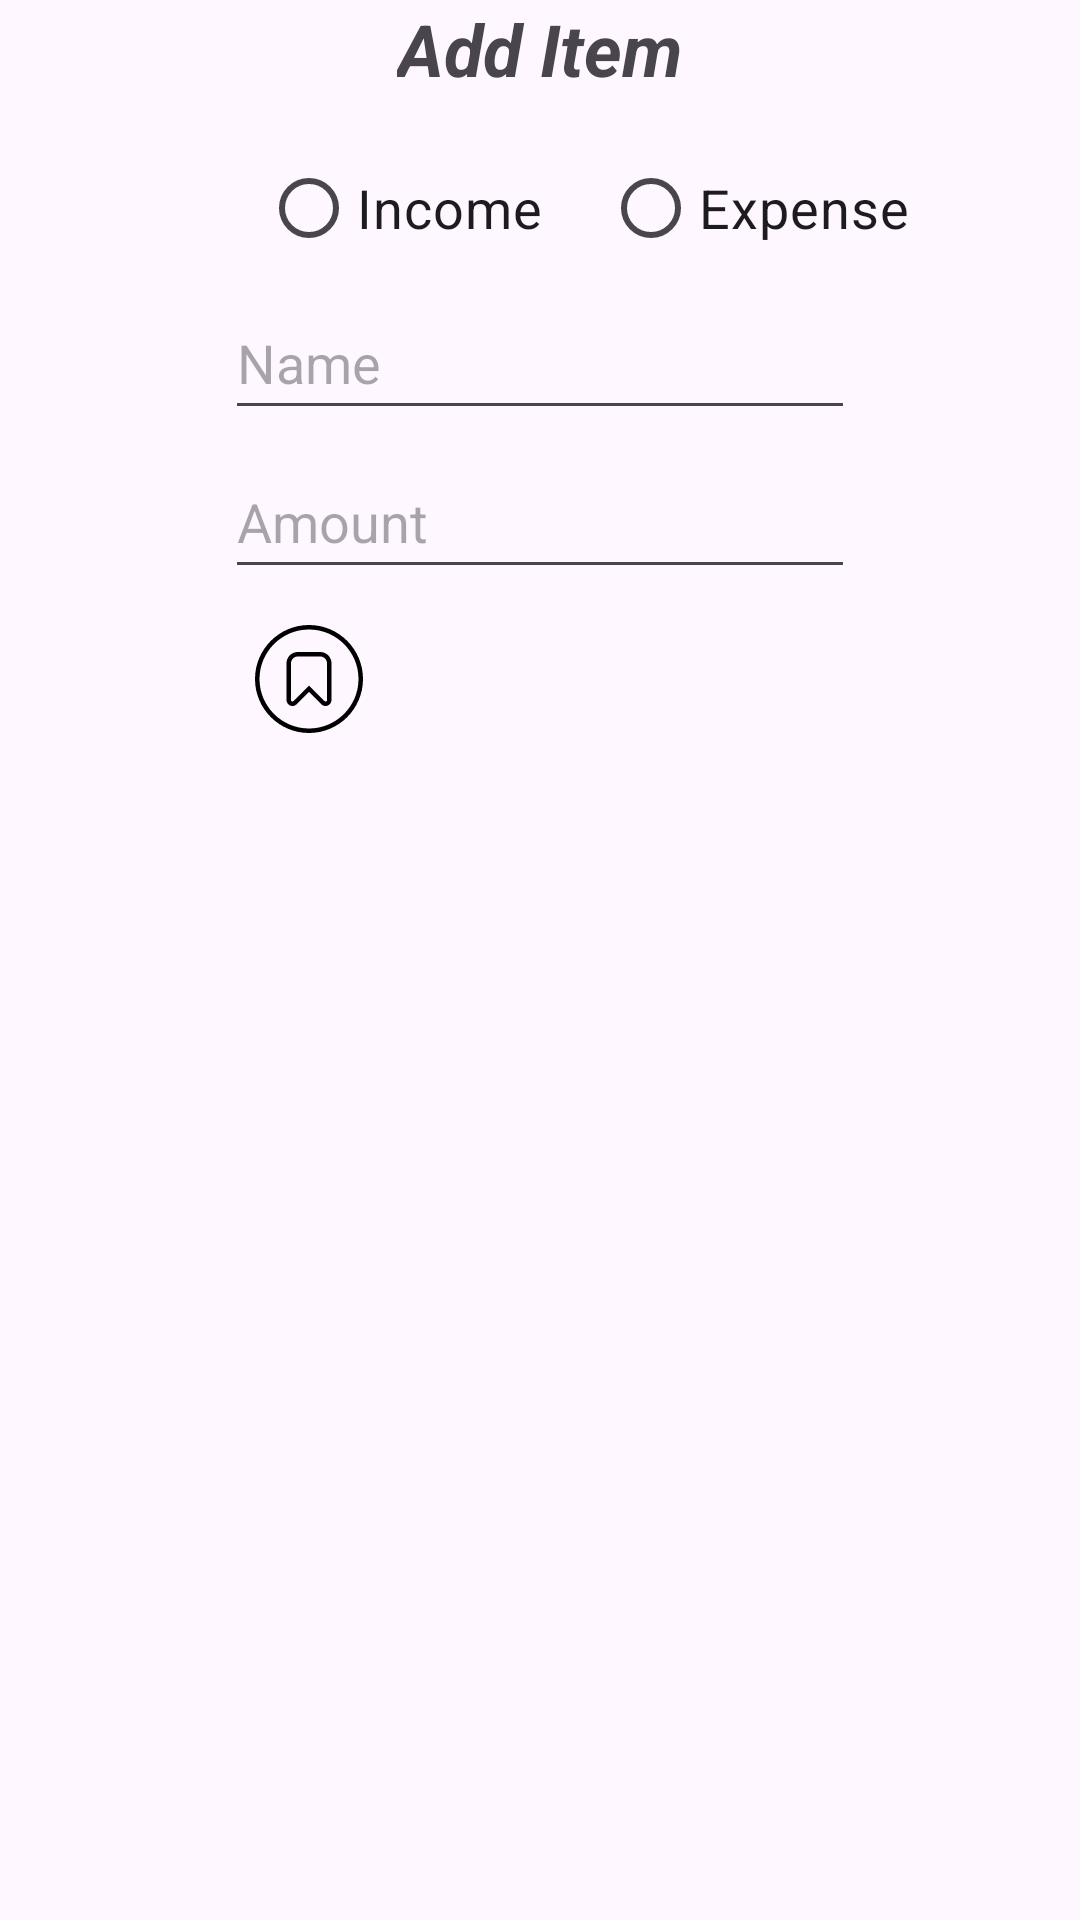

Named icons in this screenshot (1080x1920) and their bounding boxes, Rect(x1, y1, x2, y2):
circlebookmark: Rect(255, 625, 363, 733)
